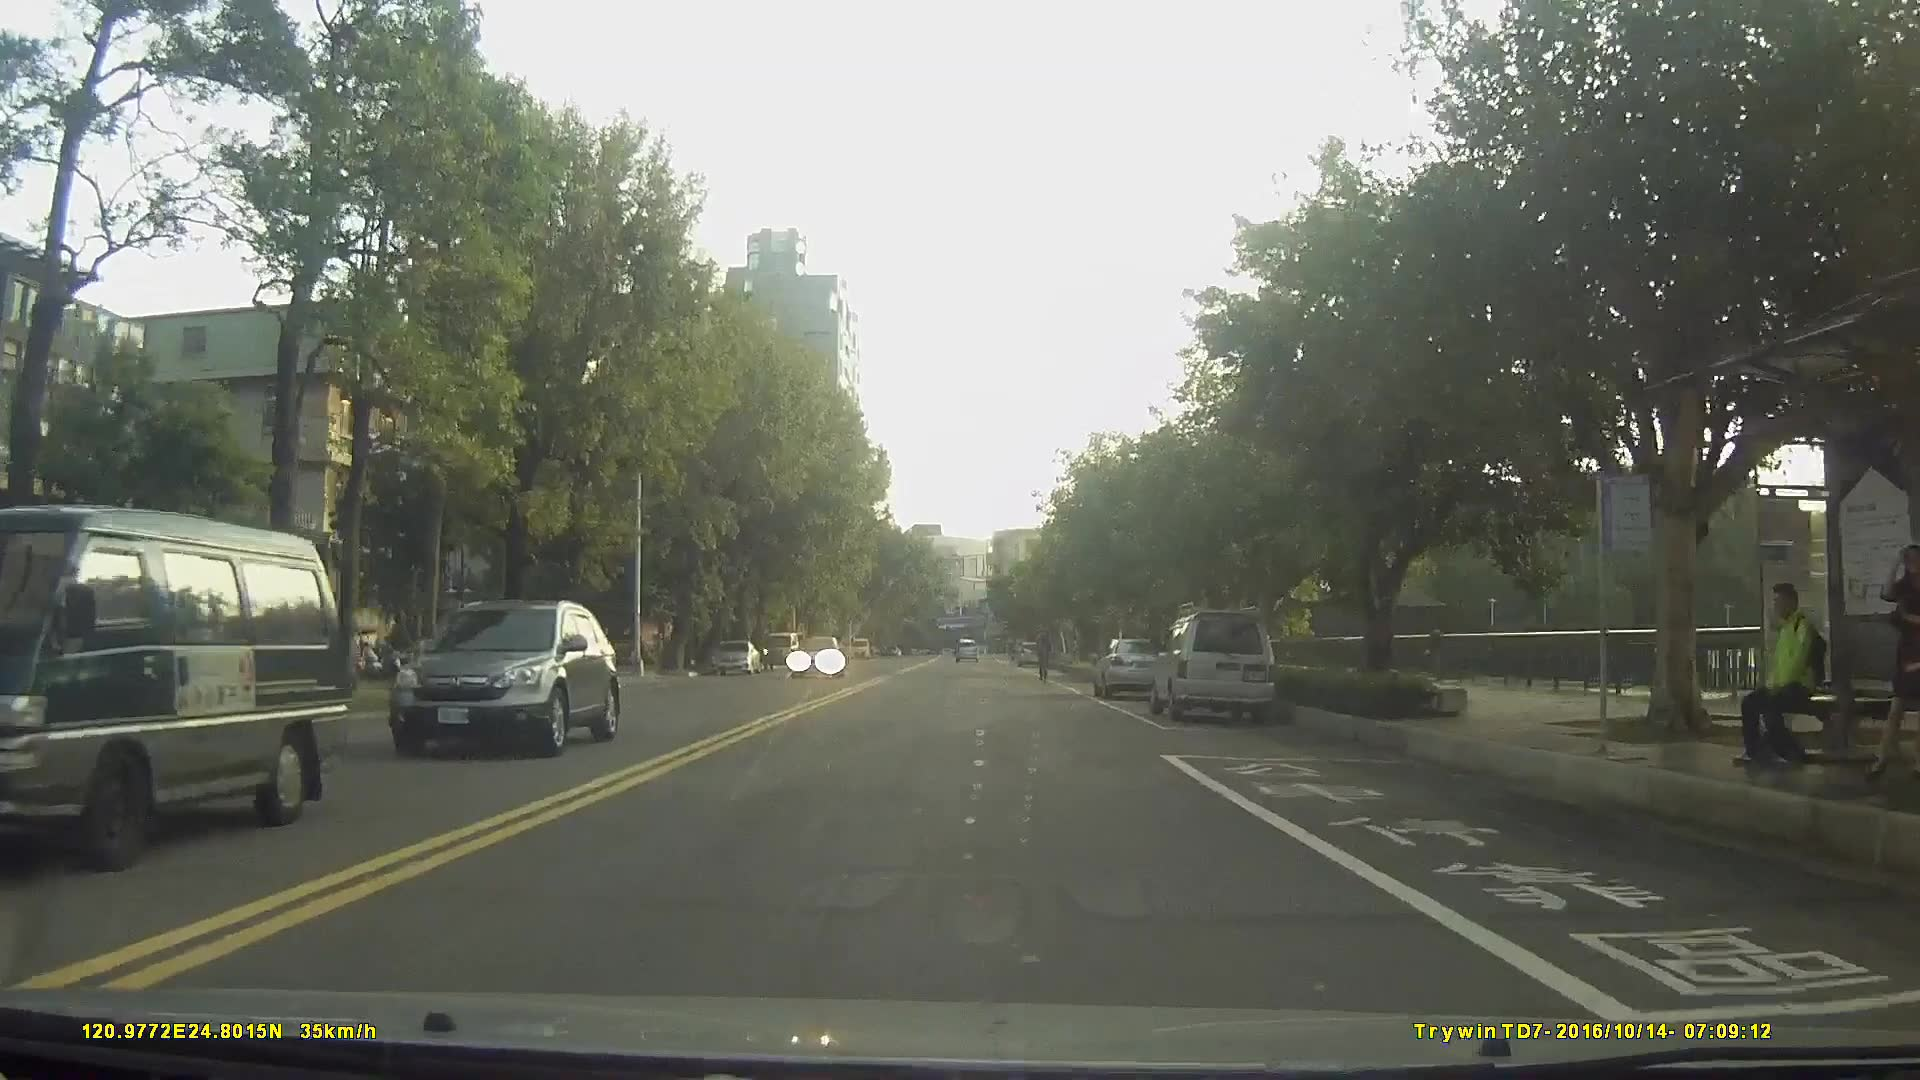pedestrian: (1736, 574, 1845, 787), (1880, 547, 1920, 772)
rider: (1034, 630, 1054, 687)
vehicle: (0, 504, 352, 871), (386, 597, 624, 757), (1148, 610, 1278, 724), (1094, 634, 1167, 698), (786, 633, 844, 680), (709, 636, 759, 675), (761, 629, 798, 667), (1016, 640, 1044, 668), (952, 635, 979, 661)
